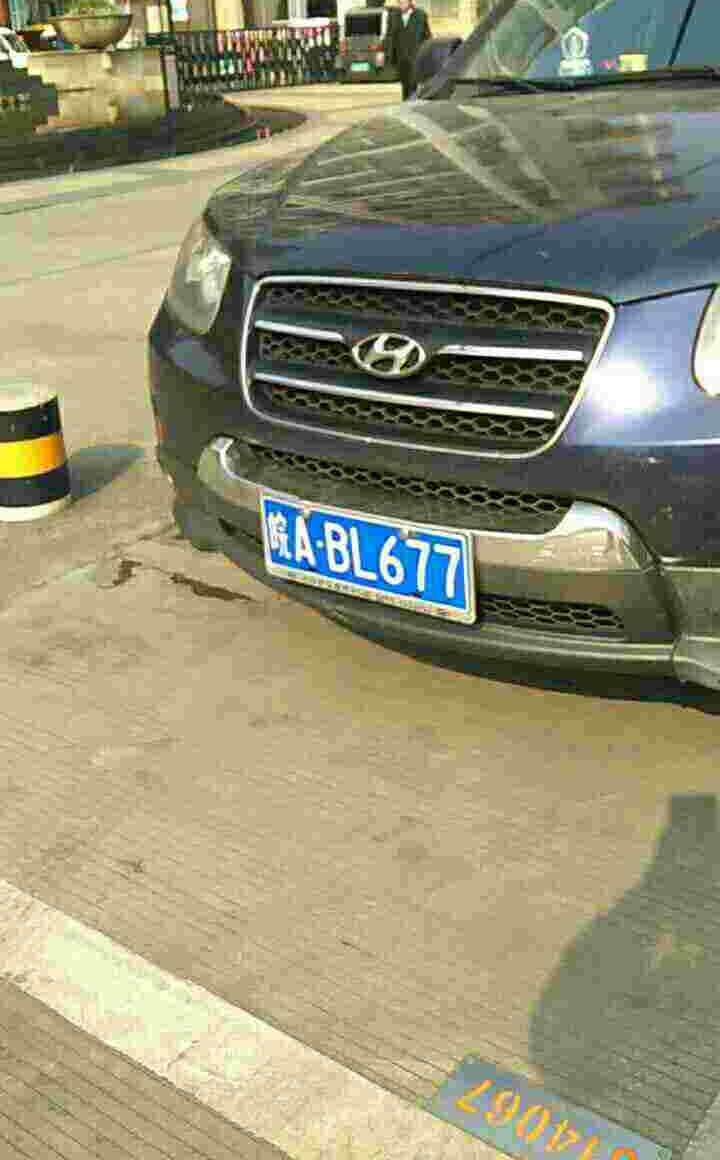license_plate: (262, 495, 480, 620)
